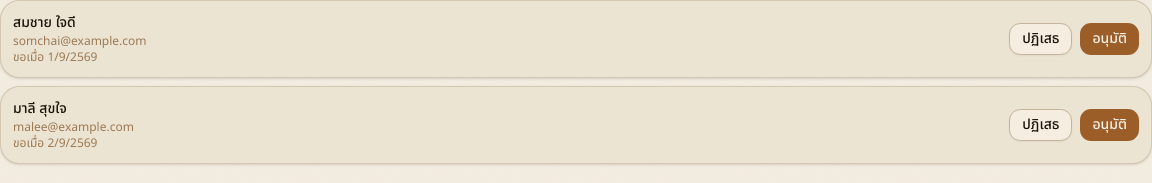
PendingRequestsList › marks both buttons of the row being resolved, and no other row
The width and height of the screenshot is (1152, 183).
Click the button "อนุมัติ" in the row of "สมชาย ใจดี" at (1110, 39), box top-left (1080, 23), bottom-right (1139, 55)
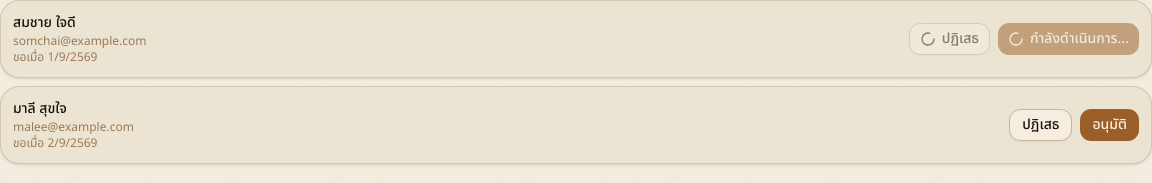
Expected: the button "อนุมัติ" is enabled, top-left (1080, 109), bottom-right (1139, 141)
Now the button "กำลังดำเนินการ..." is disabled, box top-left (998, 23), bottom-right (1139, 55)
Now the button "ปฏิเสธ" in the row of "สมชาย ใจดี" is disabled, box top-left (909, 23), bottom-right (990, 55)
